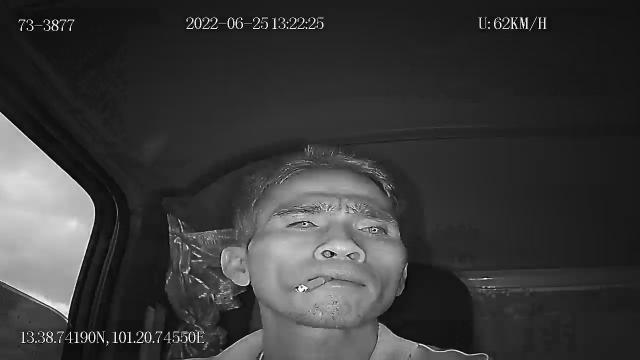SafeDriving: (278, 211, 326, 237), (350, 216, 396, 242)
Smoking: (296, 276, 332, 296)
